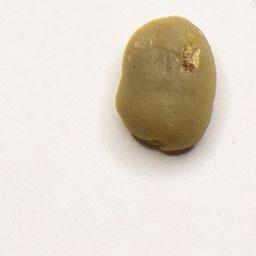premium: (113, 12, 221, 156)
